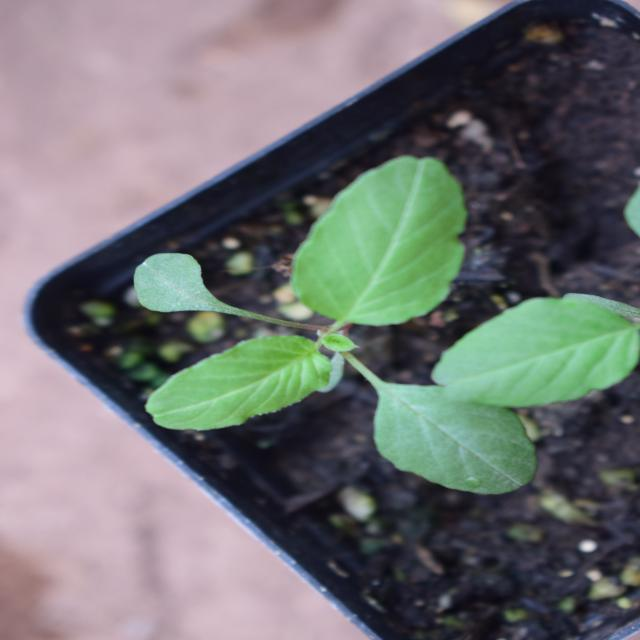pigweed: (161, 155, 486, 571)
